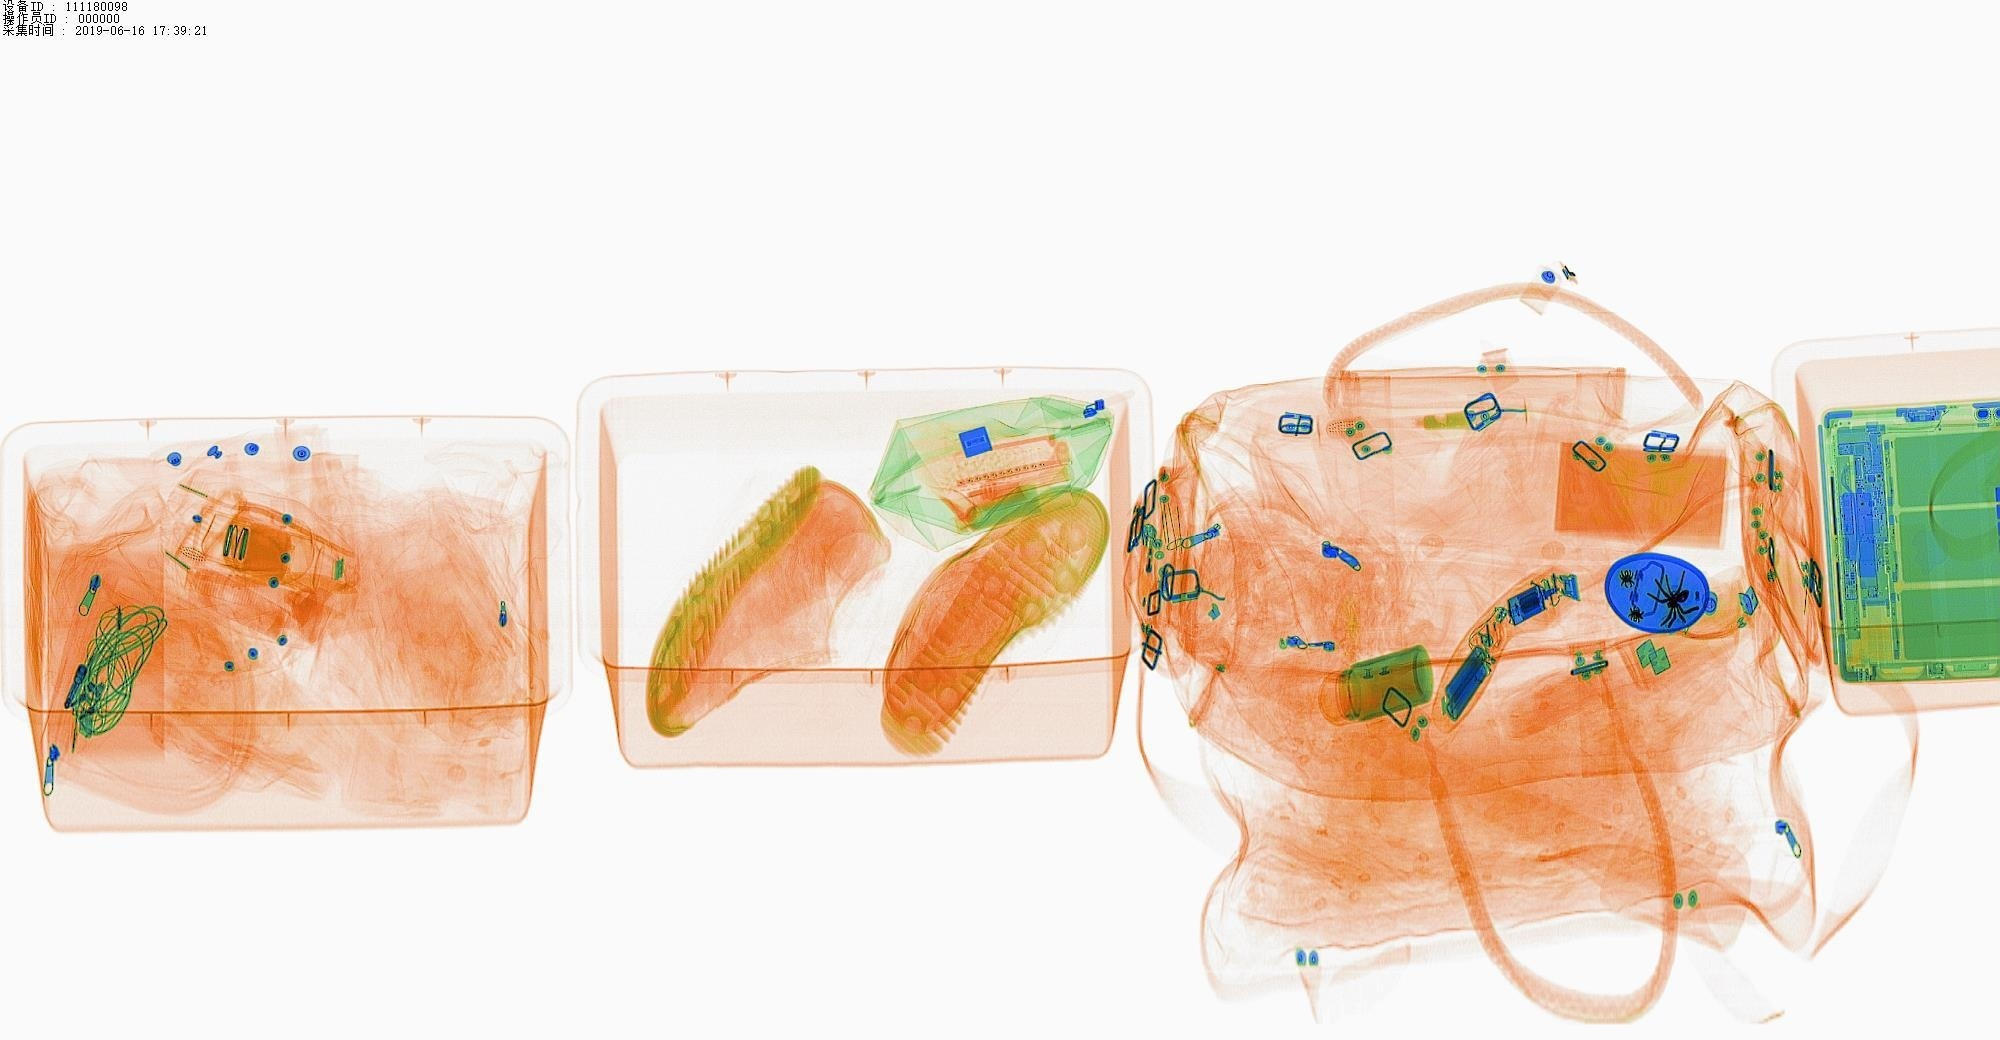NonmetallicFire: (1127, 508, 1176, 617)
